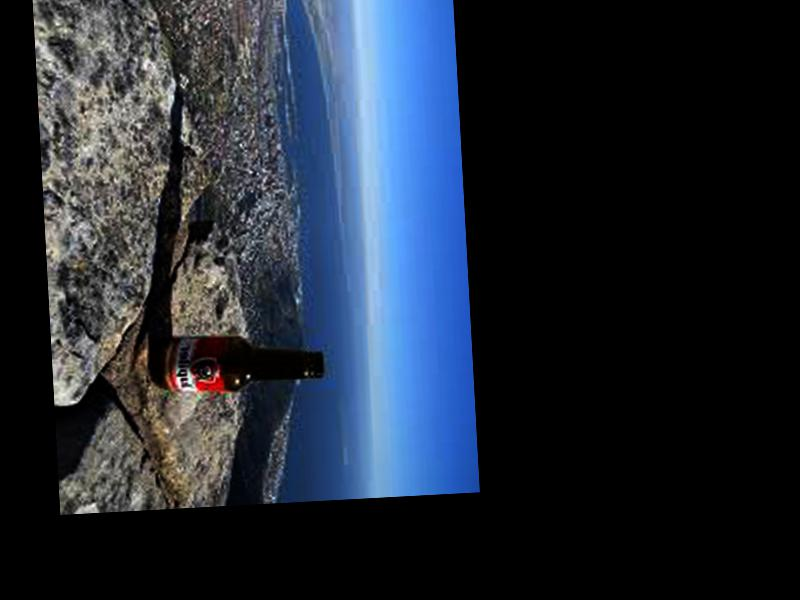Beer: (154, 329, 326, 396)
